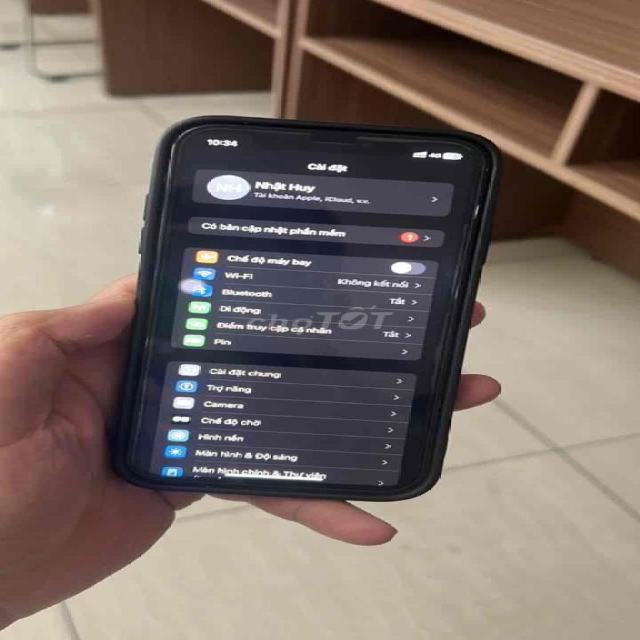gen_x_xs: (109, 108, 502, 504)
